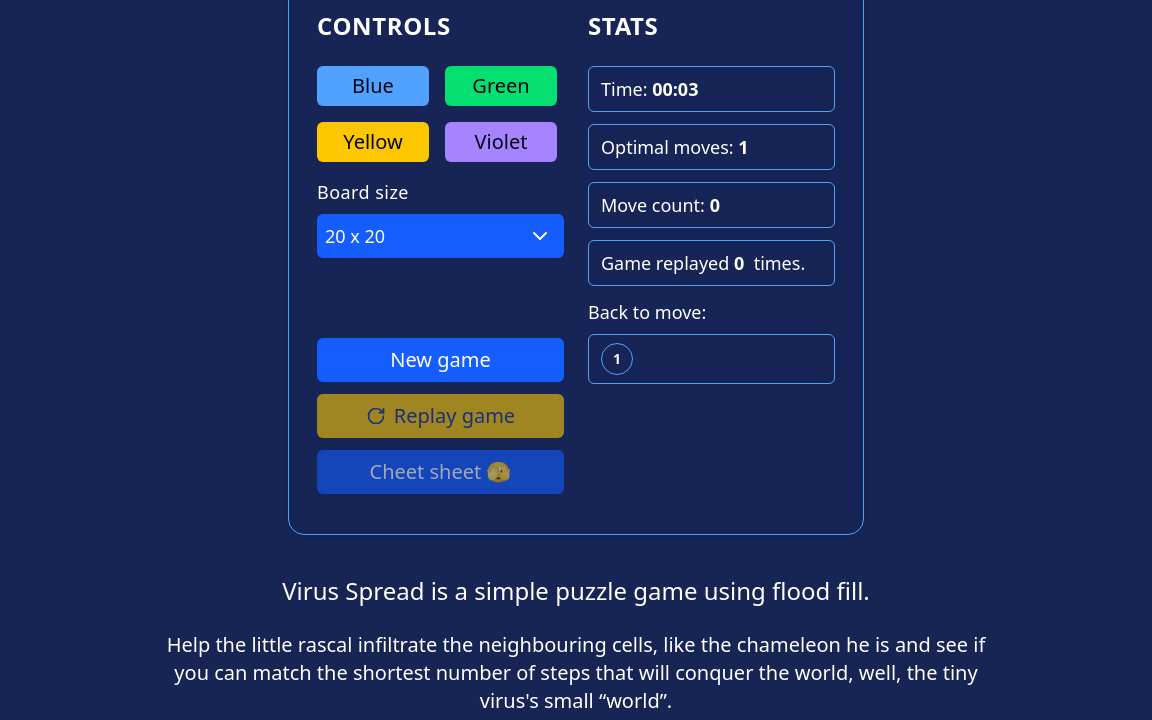
Test case: VirusSpreadHex new UI controls › resets elapsed time when starting a new game
(page scrolled)
Check: the text "00:03" is shown, box left=652, top=77, right=698, bottom=101
Step 1. Click the button "New game" → {"x": 440, "y": 360}, box left=317, top=338, right=564, bottom=382
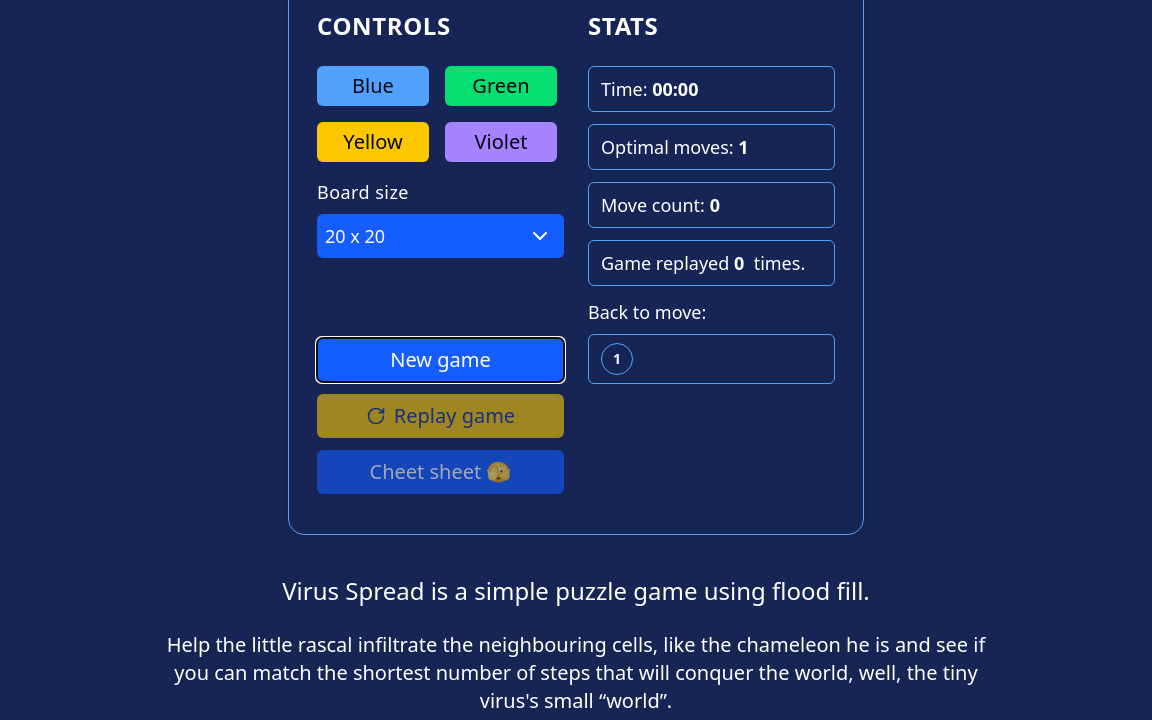
Check: the text "00:00" is shown, box left=652, top=77, right=698, bottom=101
